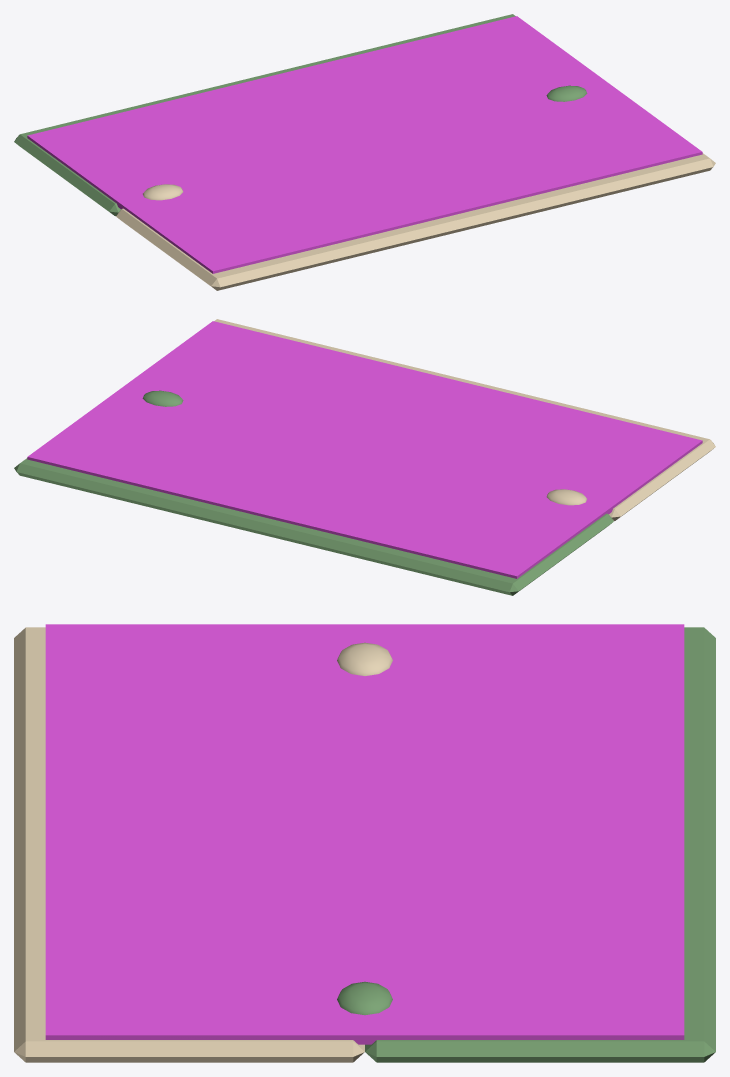
3 views of the same model, one above another, from view 1: azimuth 30°, elevation 25°; view 2: azimuth 150°, elevation 25°; view 3: azimuth 270°, elevation 25° (orthographic). The views are drawn at different scales.
Visible parts, largest first — view 1: NAV_MASK_TRANSITION_SAND_GRASS, LOD2_TRANSITION_SAND_GRASS_A, LOD2_TRANSITION_SAND_GRASS_B, LOD2_TRANSITION_SAND_GRASS_Blend_01, LOD2_TRANSITION_SAND_GRASS_Blend_02; view 2: NAV_MASK_TRANSITION_SAND_GRASS, LOD2_TRANSITION_SAND_GRASS_B, LOD2_TRANSITION_SAND_GRASS_A, LOD2_TRANSITION_SAND_GRASS_Blend_01, LOD2_TRANSITION_SAND_GRASS_Blend_02; view 3: NAV_MASK_TRANSITION_SAND_GRASS, LOD2_TRANSITION_SAND_GRASS_A, LOD2_TRANSITION_SAND_GRASS_B, LOD2_TRANSITION_SAND_GRASS_Blend_02, LOD2_TRANSITION_SAND_GRASS_Blend_01.
Boxes of the visible parts, x1,y1,x2,y2 form: NAV_MASK_TRANSITION_SAND_GRASS: [27, 16, 702, 273]; LOD2_TRANSITION_SAND_GRASS_A: [116, 153, 715, 290]; LOD2_TRANSITION_SAND_GRASS_B: [14, 14, 515, 216]; LOD2_TRANSITION_SAND_GRASS_Blend_01: [143, 184, 183, 200]; LOD2_TRANSITION_SAND_GRASS_Blend_02: [546, 85, 587, 101]; NAV_MASK_TRANSITION_SAND_GRASS: [27, 321, 702, 578]; LOD2_TRANSITION_SAND_GRASS_B: [14, 458, 613, 595]; LOD2_TRANSITION_SAND_GRASS_A: [214, 319, 715, 521]; LOD2_TRANSITION_SAND_GRASS_Blend_01: [546, 489, 586, 505]; LOD2_TRANSITION_SAND_GRASS_Blend_02: [142, 390, 183, 406]; NAV_MASK_TRANSITION_SAND_GRASS: [45, 624, 684, 1044]; LOD2_TRANSITION_SAND_GRASS_A: [14, 627, 364, 1062]; LOD2_TRANSITION_SAND_GRASS_B: [365, 627, 715, 1062]; LOD2_TRANSITION_SAND_GRASS_Blend_02: [337, 981, 392, 1015]; LOD2_TRANSITION_SAND_GRASS_Blend_01: [337, 642, 392, 675].
Size of what is drawn, in the model's own units: 6 by 0.23 by 4.2.
